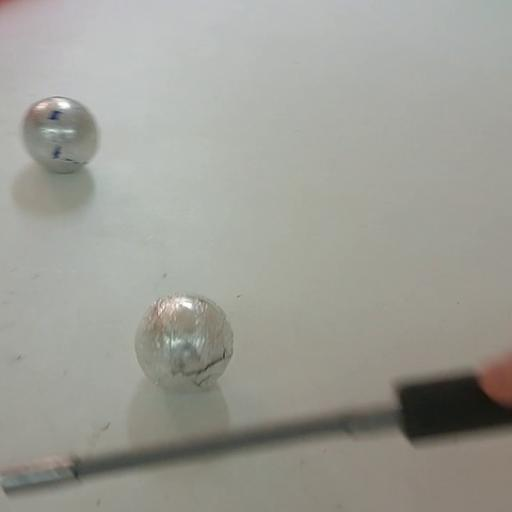alive: (133, 292, 237, 392), (20, 95, 100, 174)
